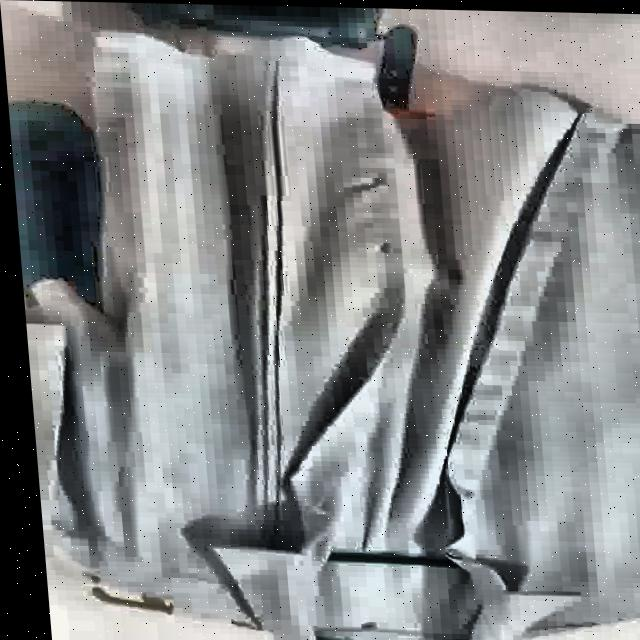clothes: (3, 35, 640, 640)
